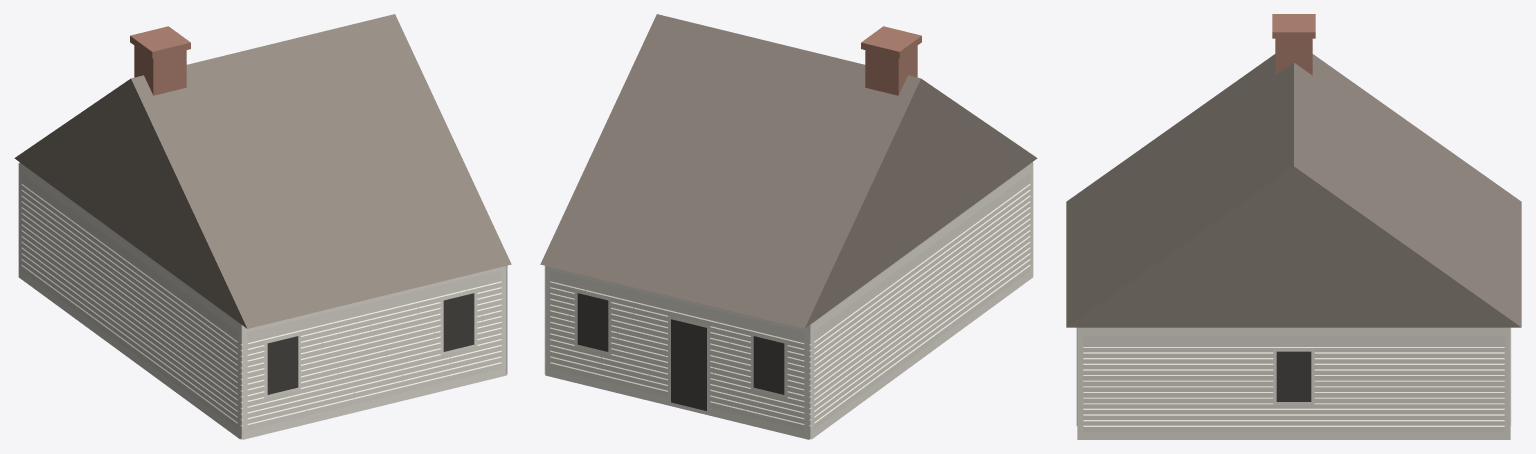
File: recon_1835_west_018__inferred_1835.glb
The picture shows the model from 3 angles, left to right: view 1: azimuth 30°, elevation 25°; view 2: azimuth 150°, elevation 25°; view 3: azimuth 270°, elevation 25°; orthographic projection. The views are drawn at different scales.
Visible parts, largest first — view 1: recon_1835_west_018__inferred_1835; view 2: recon_1835_west_018__inferred_1835; view 3: recon_1835_west_018__inferred_1835.
Part boxes in pixels (x1,y1,x2,y2): recon_1835_west_018__inferred_1835: (14, 14, 511, 439); recon_1835_west_018__inferred_1835: (540, 14, 1037, 439); recon_1835_west_018__inferred_1835: (1066, 14, 1521, 439).
Size of the model in its own units: 6.79 by 7.57 by 10.25.
